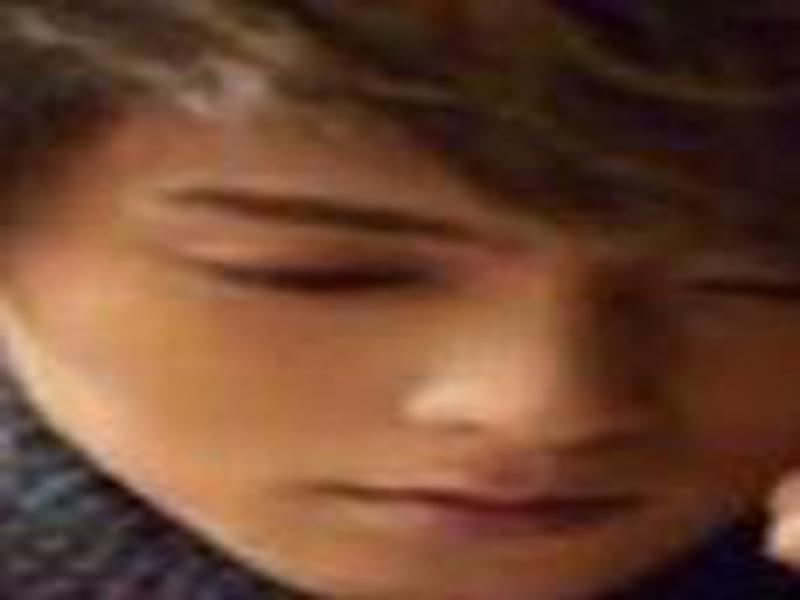without_mask: (19, 93, 797, 600)
